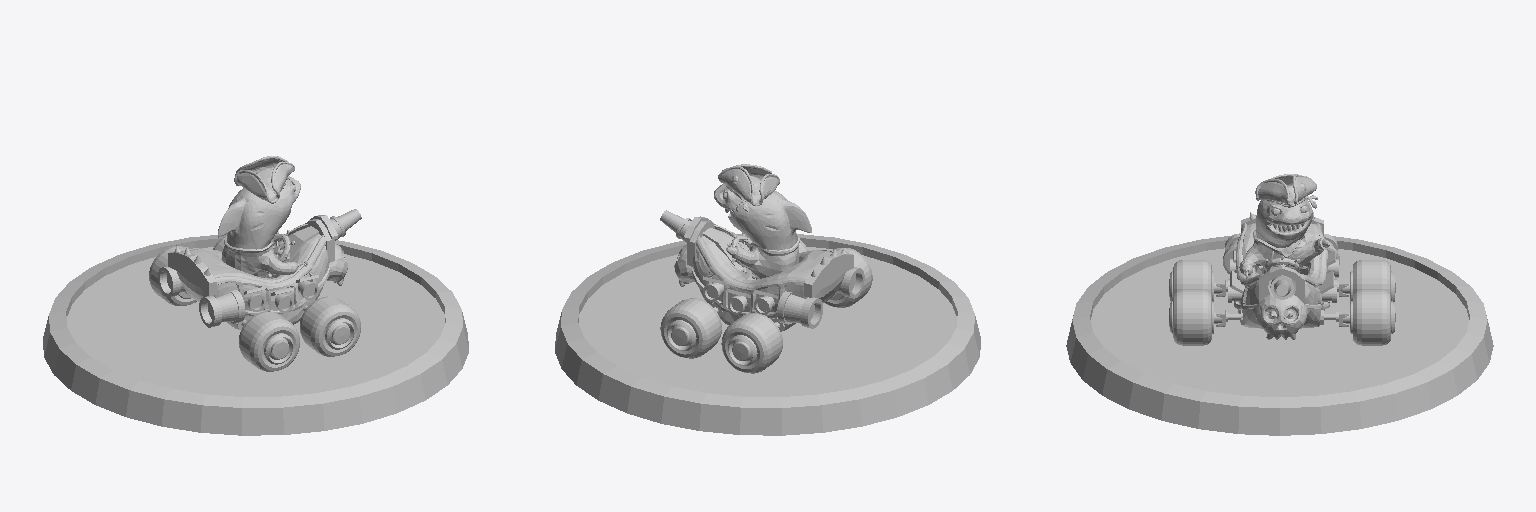
Rendered from selectionsharky_000011.obj.
The picture shows the model from 3 angles: view 1: azimuth 30°, elevation 25°; view 2: azimuth 150°, elevation 25°; view 3: azimuth 270°, elevation 25°; orthographic projection.
Visible parts, largest first — view 1: platform_low_platform_low.001, wheel_low, body_low, ship_low, smotor_low, hat_low, armor_low, cloth_low_Mesh, backwood_low, grontwood_low; view 2: platform_low_platform_low.001, wheel_low, body_low, ship_low, smotor_low, hat_low, armor_low, cloth_low_Mesh, backwood_low, grontwood_low; view 3: platform_low_platform_low.001, wheel_low, ship_low, body_low, skull_low, cloth_low_Mesh, hat_low, armor_low, grontwood_low, canyon3_low, supportwheel2_low, mast_low.
Boxes of the visible parts, x1=… form: platform_low_platform_low.001: x1=43, y1=234, x2=468, y2=435; wheel_low: x1=149, y1=234, x2=360, y2=371; body_low: x1=218, y1=176, x2=300, y2=249; ship_low: x1=177, y1=229, x2=329, y2=329; smotor_low: x1=158, y1=266, x2=245, y2=327; hat_low: x1=234, y1=156, x2=294, y2=203; armor_low: x1=184, y1=224, x2=330, y2=315; cloth_low_Mesh: x1=222, y1=237, x2=292, y2=277; backwood_low: x1=168, y1=251, x2=216, y2=296; grontwood_low: x1=305, y1=215, x2=337, y2=261; platform_low_platform_low.001: x1=555, y1=234, x2=980, y2=435; wheel_low: x1=660, y1=240, x2=872, y2=373; body_low: x1=714, y1=184, x2=811, y2=250; ship_low: x1=693, y1=229, x2=845, y2=330; smotor_low: x1=777, y1=267, x2=864, y2=328; hat_low: x1=718, y1=164, x2=779, y2=205; armor_low: x1=692, y1=225, x2=840, y2=317; cloth_low_Mesh: x1=732, y1=233, x2=799, y2=279; backwood_low: x1=804, y1=253, x2=853, y2=297; grontwood_low: x1=684, y1=216, x2=715, y2=266; platform_low_platform_low.001: x1=1066, y1=236, x2=1493, y2=435; wheel_low: x1=1169, y1=260, x2=1395, y2=345; ship_low: x1=1238, y1=223, x2=1324, y2=328; body_low: x1=1256, y1=200, x2=1312, y2=247; skull_low: x1=1255, y1=294, x2=1307, y2=339; cloth_low_Mesh: x1=1239, y1=230, x2=1328, y2=273; hat_low: x1=1255, y1=174, x2=1316, y2=206; armor_low: x1=1234, y1=223, x2=1329, y2=309; grontwood_low: x1=1259, y1=265, x2=1304, y2=304; canyon3_low: x1=1228, y1=276, x2=1336, y2=302; supportwheel2_low: x1=1216, y1=279, x2=1348, y2=326; mast_low: x1=1268, y1=275, x2=1295, y2=299.
Bounding box in the file's own units: 13.87 × 6.41 × 13.87.